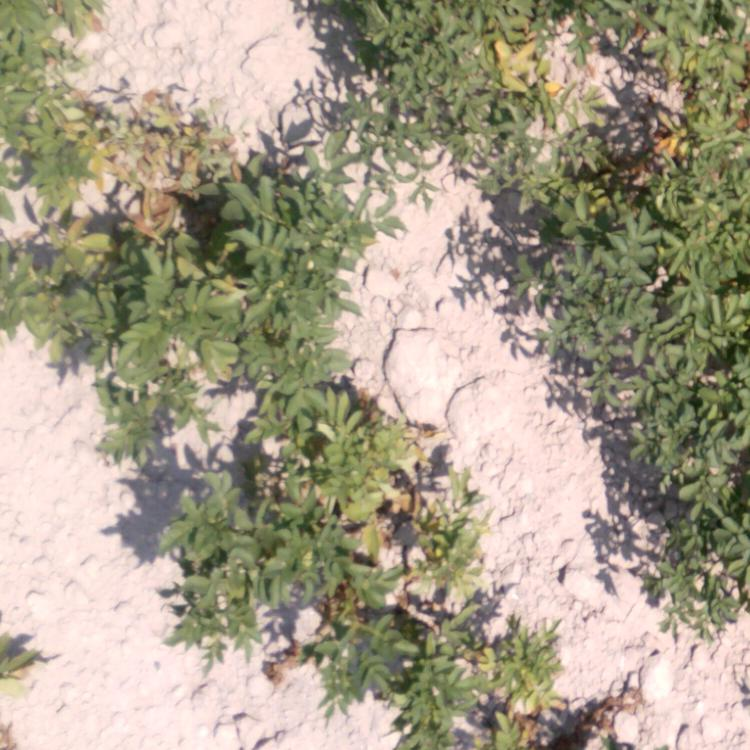healthy: (486, 216, 746, 370), (599, 377, 749, 628), (297, 4, 471, 167), (220, 178, 340, 377)
stressed: (470, 1, 746, 213), (172, 371, 321, 652), (323, 603, 595, 750), (1, 215, 218, 360), (321, 386, 463, 596), (1, 1, 121, 217), (129, 94, 214, 206), (87, 366, 168, 458)
